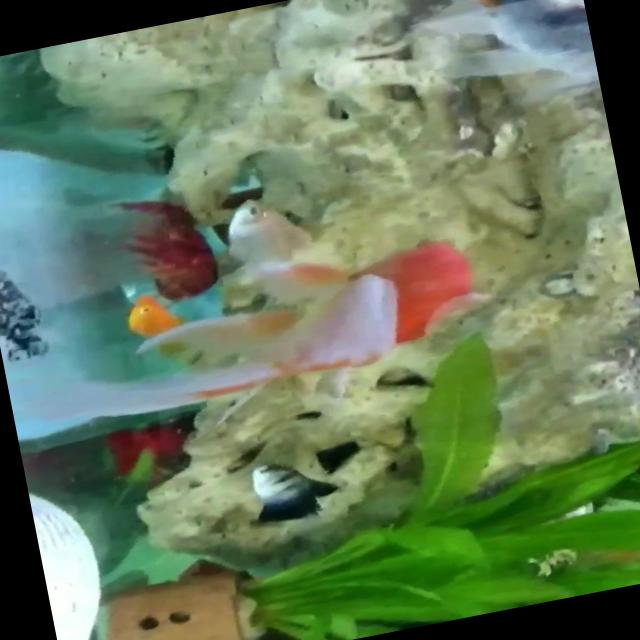GoldFish: (128, 214, 514, 416)
